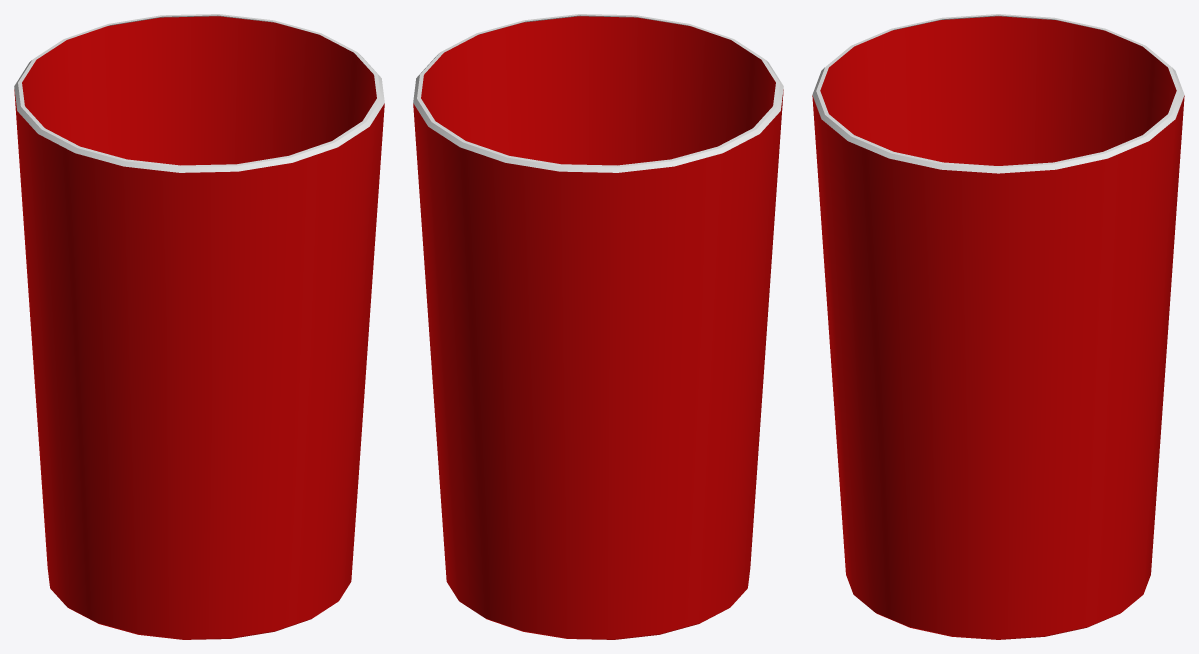
File: cup.fbx
3 renders of one model, left to right at view 1: azimuth 30°, elevation 25°; view 2: azimuth 150°, elevation 25°; view 3: azimuth 270°, elevation 25°, orthographic.
Parts seen in each view (by area): view 1: pCylinder1; view 2: pCylinder1; view 3: pCylinder1.
Boxes of the visible parts, x1=… form: pCylinder1: x1=14, y1=14, x2=384, y2=639; pCylinder1: x1=413, y1=14, x2=783, y2=639; pCylinder1: x1=812, y1=14, x2=1184, y2=639.
Bounding box in the file's own units: 19.43 × 27.96 × 19.43.
